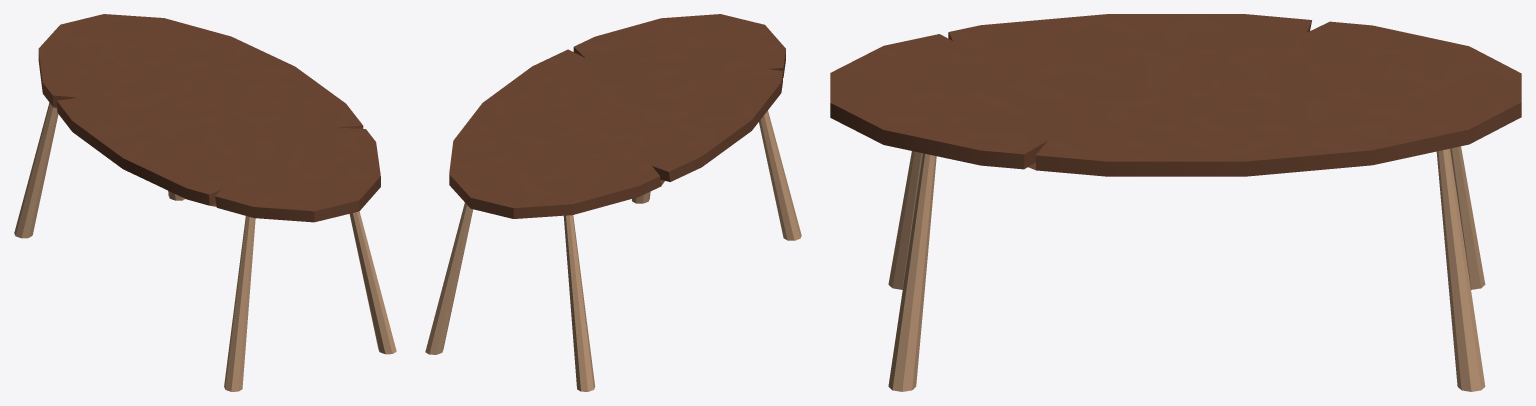
Rendered from Table_03_01_Damaged.fbx.
The picture shows the model from 3 angles, left to right: view 1: azimuth 30°, elevation 25°; view 2: azimuth 150°, elevation 25°; view 3: azimuth 270°, elevation 25°; orthographic projection. The views are drawn at different scales.
Parts seen in each view (by area): view 1: Table_03_01_Damaged; view 2: Table_03_01_Damaged; view 3: Table_03_01_Damaged.
Part boxes in pixels (box(x1,y1,x2,y2)): Table_03_01_Damaged: box(14, 14, 396, 391); Table_03_01_Damaged: box(425, 14, 801, 391); Table_03_01_Damaged: box(830, 14, 1521, 391).
Bounding box in the file's own units: 1.07 × 0.8341 × 2.11.
